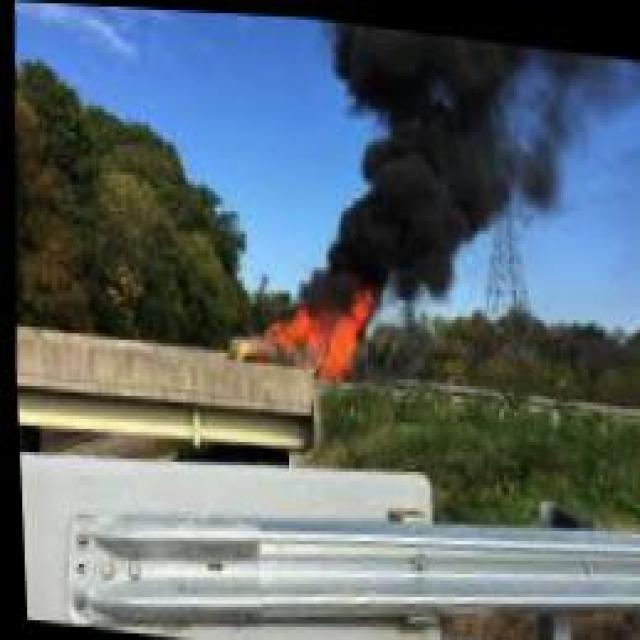Fire: (235, 260, 383, 382)
Smoke: (294, 13, 638, 304)
